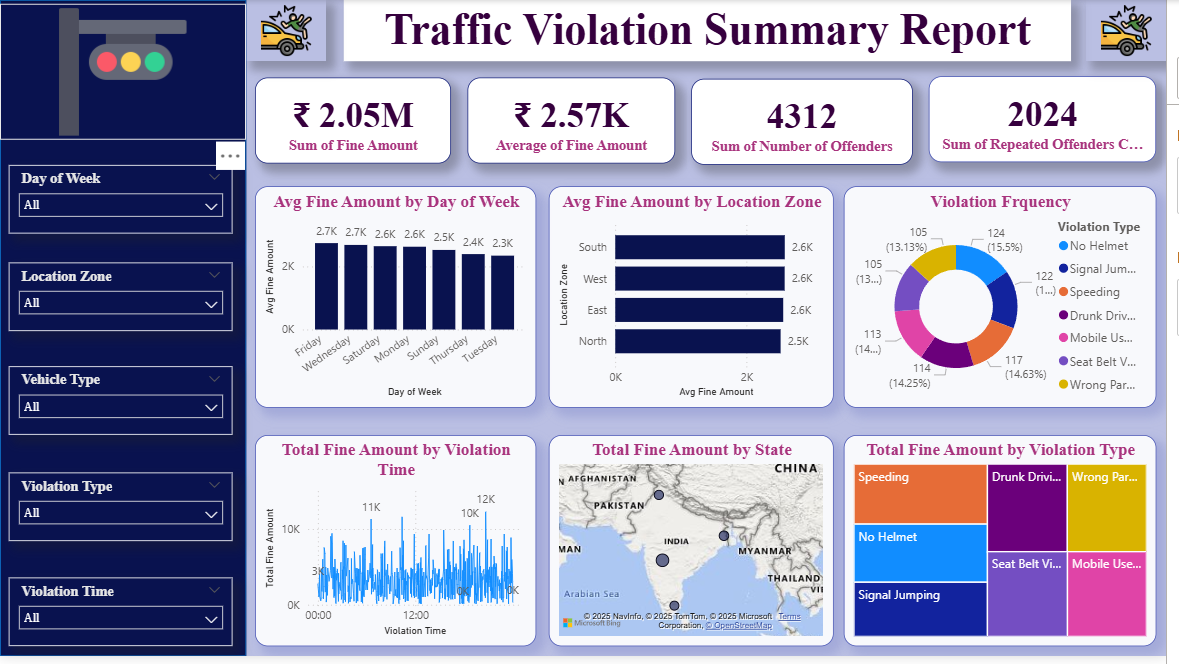

This screenshot's page, from the dashboard's own definition file:
{"tool":"powerbi","page":{"name":"Page 1","canvas":[1280,720],"ordinal":0},"visuals":[{"type":"textbox","box":[377.4,0,798.6,67.2],"z":0},{"type":"shape","box":[0,0,270.3,720.4],"z":1000},{"type":"card","fields":{"Values":["Sum(traffic_violation.Fine Amount)"]},"box":[279.9,85.1,215.4,94.7],"z":2000},{"type":"card","fields":{"Values":["Avg(traffic_violation.Fine Amount)"]},"box":[513.2,85.1,227.8,94.7],"z":3000},{"type":"card","fields":{"Values":["Sum(traffic_violation.Number of Offenders)"]},"box":[758.8,86.4,242.9,94.7],"z":4000},{"type":"card","fields":{"Values":["Sum(traffic_violation.Repeated Offenders Count)"]},"box":[1019.6,83.7,249.7,94.7],"z":5000},{"type":"columnChart","fields":{"Category":["traffic_violation.Day of Week"],"Y":["Measures Table.Avg Fine Amount"]},"box":[279.9,204.5,308.7,242.9],"z":6000},{"type":"barChart","fields":{"Y":["Measures Table.Avg Fine Amount"],"Category":["traffic_violation.Location Zone"]},"box":[602.4,204.5,312.9,242.9],"z":7000},{"type":"donutChart","title":" Violation Frquency","fields":{"Category":["traffic_violation.Violation Type"],"Y":["CountNonNull(traffic_violation.Violation Type)"]},"box":[926.2,204.5,343.1,242.9],"z":8000},{"type":"lineChart","fields":{"Category":["traffic_violation.Violation Time"],"Y":["Measures Table.Total Fine Amount"]},"box":[279.9,477.5,308.7,231.9],"z":9000},{"type":"slicer","fields":{"Values":["traffic_violation.Day of Week"]},"box":[9.6,181.1,245.6,75.5],"z":10000},{"type":"slicer","fields":{"Values":["traffic_violation.Location Zone"]},"box":[9.6,288.2,245.6,75.5],"z":11000},{"type":"slicer","fields":{"Values":["traffic_violation.Vehicle Type"]},"box":[9.6,402.1,245.6,75.5],"z":12000},{"type":"slicer","fields":{"Values":["traffic_violation.Violation Type"]},"box":[9.6,518.7,245.6,75.5],"z":13000},{"type":"slicer","fields":{"Values":["traffic_violation.Violation Time"]},"box":[9.6,634,245.6,75.5],"z":14000},{"type":"map","fields":{"Category":["traffic_violation.State"],"Size":["Measures Table.Total Fine Amount"]},"box":[602.4,477.5,312.9,231.9],"z":15000},{"type":"treemap","fields":{"Group":["traffic_violation.Violation Type"],"Values":["Measures Table.Total Fine Amount"]},"box":[926.2,477.5,343.1,231.9],"z":16000},{"type":"image","box":[270.3,0,87.8,67.2],"z":17000},{"type":"image","box":[1192.5,0,87.8,67.2],"z":18000},{"type":"image","box":[0,4.1,270.3,149.6],"z":19000}]}

Visuals, with their boxes in screenshot pixels (x1, y1, x2, y2), scaled from the page's 1280x720 canvas onto the 1179x664 screenshot:
textbox: rect(348, 0, 1083, 62)
shape: rect(0, 0, 249, 663)
card - Sum(traffic_violation.Fine Amount): rect(258, 78, 456, 166)
card - Avg(traffic_violation.Fine Amount): rect(473, 78, 683, 166)
card - Sum(traffic_violation.Number of Offenders): rect(699, 80, 923, 167)
card - Sum(traffic_violation.Repeated Offenders Count): rect(939, 77, 1169, 165)
columnChart - traffic_violation.Day of Week x Measures Table.Avg Fine Amount: rect(258, 189, 542, 413)
barChart - Measures Table.Avg Fine Amount x traffic_violation.Location Zone: rect(555, 189, 843, 413)
" Violation Frquency" donutChart: rect(853, 189, 1169, 413)
lineChart - traffic_violation.Violation Time x Measures Table.Total Fine Amount: rect(258, 440, 542, 654)
slicer - traffic_violation.Day of Week: rect(9, 167, 235, 237)
slicer - traffic_violation.Location Zone: rect(9, 266, 235, 335)
slicer - traffic_violation.Vehicle Type: rect(9, 371, 235, 440)
slicer - traffic_violation.Violation Type: rect(9, 478, 235, 548)
slicer - traffic_violation.Violation Time: rect(9, 585, 235, 654)
map - traffic_violation.State x Measures Table.Total Fine Amount: rect(555, 440, 843, 654)
treemap - traffic_violation.Violation Type x Measures Table.Total Fine Amount: rect(853, 440, 1169, 654)
image: rect(249, 0, 330, 62)
image: rect(1098, 0, 1178, 62)
image: rect(0, 4, 249, 142)
